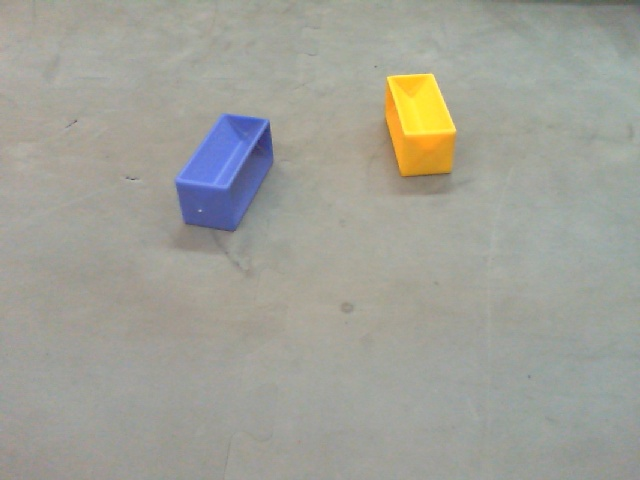BlueSample: (173, 105, 283, 236)
YellowSample: (379, 69, 460, 181)
